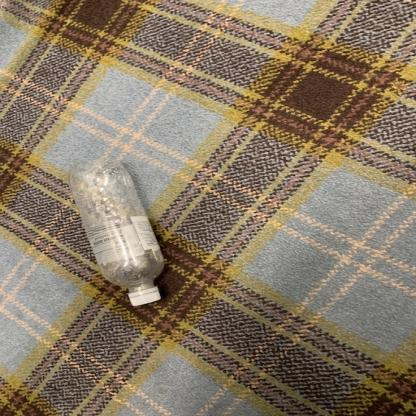trash: (63, 155, 166, 306)
